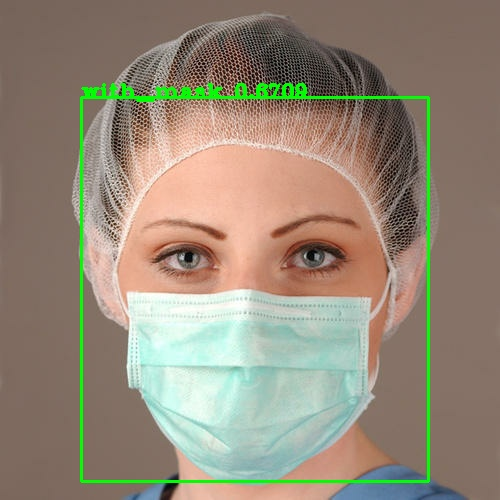with_mask: (86, 117, 419, 489)
